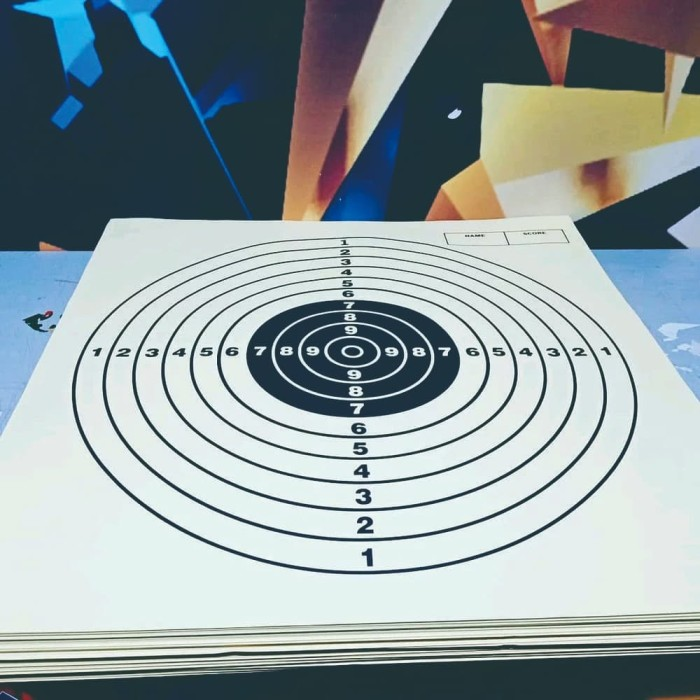target: (60, 212, 645, 575)
